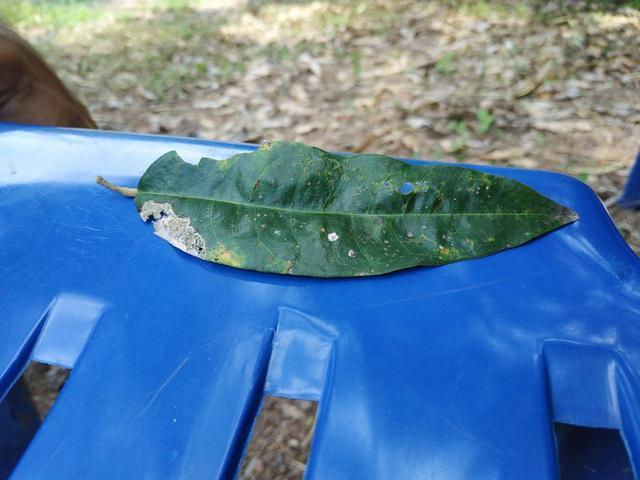Blight Spot: (84, 125, 597, 294)
